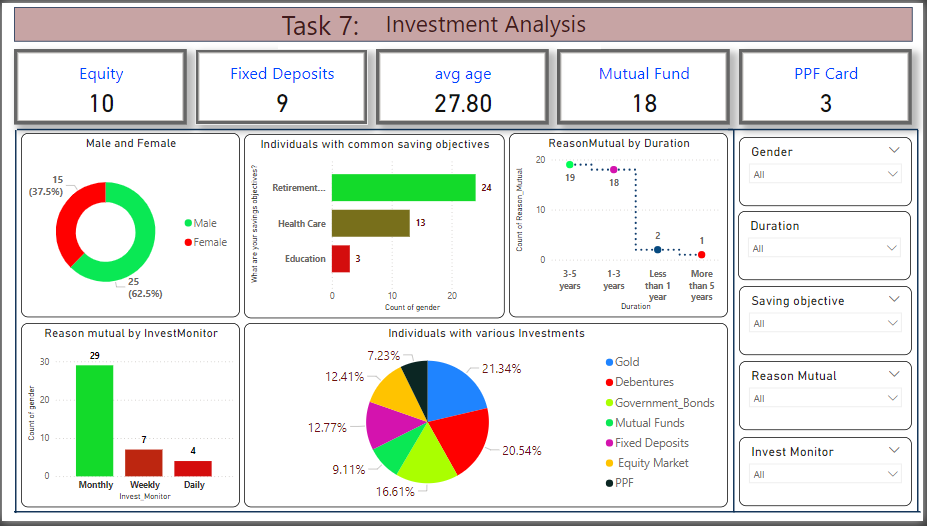

Layout of this report page (visuals, bound fields, positions):
{"tool":"powerbi","page":{"name":"Dashboard","canvas":[1280,720],"ordinal":0},"visuals":[{"type":"cardVisual","fields":{"Data":["Data_set 2.Measure 3"]},"box":[16,64,240,105],"z":0},{"type":"cardVisual","fields":{"Data":["Data_set 2.Fixed Deposits Card"]},"box":[268,64,240,105],"z":1000},{"type":"cardVisual","fields":{"Data":["Data_set 2.Mutual Fund card"]},"box":[771,64,240,105],"z":2000},{"type":"textbox","box":[528,0,304,64],"z":3000},{"type":"textbox","box":[384,0,144,64],"z":4000},{"type":"cardVisual","fields":{"Data":["Data_set 2.PPF Card"]},"box":[1024,64,240,105],"z":5000},{"type":"shape","box":[16,5,1248,48],"z":6000},{"type":"cardVisual","fields":{"Data":["Data_set 2.avg age"]},"box":[520,64,240,105],"z":7000},{"type":"donutChart","fields":{"Y":["Data_set 2.Male","Data_set 2.Female"]},"box":[26,181,304,256],"z":8000},{"type":"slicer","fields":{"Values":["Data_set 2.gender"]},"box":[1023.3,185.7,240,96],"z":9000},{"type":"slicer","fields":{"Values":["Data_set 2.Duration"]},"box":[1022.3,288.7,240,96],"z":10000},{"type":"slicer","fields":{"Values":["Data_set 2.What are your savings objectives?"]},"box":[1023.3,393.7,240,96],"z":11000},{"type":"slicer","fields":{"Values":["Data_set 2.Reason_Mutual"]},"box":[1023.3,497.7,240,96],"z":12000},{"type":"slicer","fields":{"Values":["Data_set 2.Invest_Monitor"]},"box":[1023.3,602.7,240,96],"z":13000},{"type":"shape","box":[1008,176,16,531],"z":14000},{"type":"shape","box":[11,176,16,532],"z":15000},{"type":"shape","box":[21,160,994,32],"z":16000},{"type":"shape","box":[16,699,1259,16],"z":17000},{"type":"shape","box":[1008,160,264,32],"z":18000},{"type":"shape","box":[1264,176,16,530],"z":19000},{"type":"clusteredBarChart","title":"Individuals with common saving objectives","fields":{"Y":["CountNonNull(Data_set 2.gender)"],"Category":["Data_set 2.What are your savings objectives?"]},"box":[336,182,362,256],"z":20000},{"type":"lineChart","title":" ReasonMutual by Duration","fields":{"Category":["Data_set 2.Duration"],"Y":["CountNonNull(Data_set 2.Reason_Mutual)"]},"box":[704,181,304,256],"z":21000},{"type":"clusteredColumnChart","title":"Reason mutual by InvestMonitor ","fields":{"Category":["Data_set 2.Invest_Monitor"],"Y":["CountNonNull(Data_set 2.gender)"]},"box":[26,445,304,256],"z":22000},{"type":"pieChart","title":"Individuals with various Investments","fields":{"Y":["Sum(Data_set 2.Gold)","Sum(Data_set 2.Debentures)","Sum(Data_set 2.Government_Bonds)","Sum(Data_set 2.Mutual_Funds)","Sum(Data_set 2.Fixed_Deposits)","Sum(Data_set 2.Equity_Market)","Sum(Data_set 2.PPF)"]},"box":[336,445,672,256],"z":23000}]}

Visuals, with their boxes in screenshot pixels (x1, y1, x2, y2), scaled from the page's 1280x720 canvas onto the 927x526 screenshot:
cardVisual - Data_set 2.Measure 3: (x1=12, y1=47, x2=185, y2=123)
cardVisual - Data_set 2.Fixed Deposits Card: (x1=194, y1=47, x2=368, y2=123)
cardVisual - Data_set 2.Mutual Fund card: (x1=558, y1=47, x2=732, y2=123)
textbox: (x1=382, y1=0, x2=603, y2=47)
textbox: (x1=278, y1=0, x2=382, y2=47)
cardVisual - Data_set 2.PPF Card: (x1=742, y1=47, x2=915, y2=123)
shape: (x1=12, y1=4, x2=915, y2=39)
cardVisual - Data_set 2.avg age: (x1=377, y1=47, x2=550, y2=123)
donutChart - Data_set 2.Male x Data_set 2.Female: (x1=19, y1=132, x2=239, y2=319)
slicer - Data_set 2.gender: (x1=741, y1=136, x2=915, y2=206)
slicer - Data_set 2.Duration: (x1=740, y1=211, x2=914, y2=281)
slicer - Data_set 2.What are your savings objectives?: (x1=741, y1=288, x2=915, y2=358)
slicer - Data_set 2.Reason_Mutual: (x1=741, y1=364, x2=915, y2=434)
slicer - Data_set 2.Invest_Monitor: (x1=741, y1=440, x2=915, y2=510)
shape: (x1=730, y1=129, x2=742, y2=517)
shape: (x1=8, y1=129, x2=20, y2=517)
shape: (x1=15, y1=117, x2=735, y2=140)
shape: (x1=12, y1=511, x2=923, y2=522)
shape: (x1=730, y1=117, x2=921, y2=140)
shape: (x1=915, y1=129, x2=926, y2=516)
"Individuals with common saving objectives" clusteredBarChart: (x1=243, y1=133, x2=506, y2=320)
" ReasonMutual by Duration" lineChart: (x1=510, y1=132, x2=730, y2=319)
"Reason mutual by InvestMonitor " clusteredColumnChart: (x1=19, y1=325, x2=239, y2=512)
"Individuals with various Investments" pieChart: (x1=243, y1=325, x2=730, y2=512)
